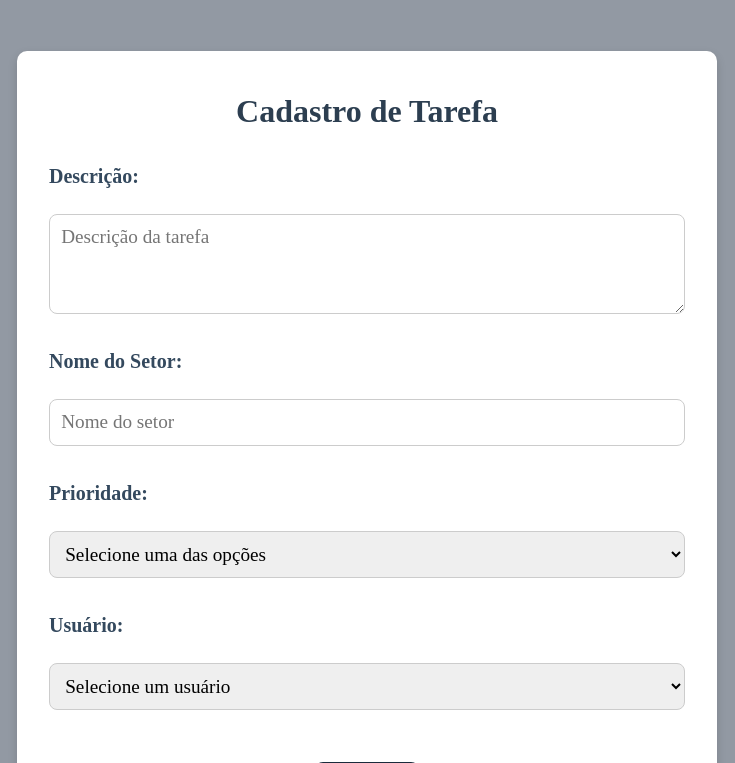
Test case: CadTarefa › deve exibir erro quando o campo 'Nome do Setor' estiver vazio
In the text box labelled "Descrição:": (367, 264) [49,214,685,314], type "Descrição válida com mais de 10 caracteres"
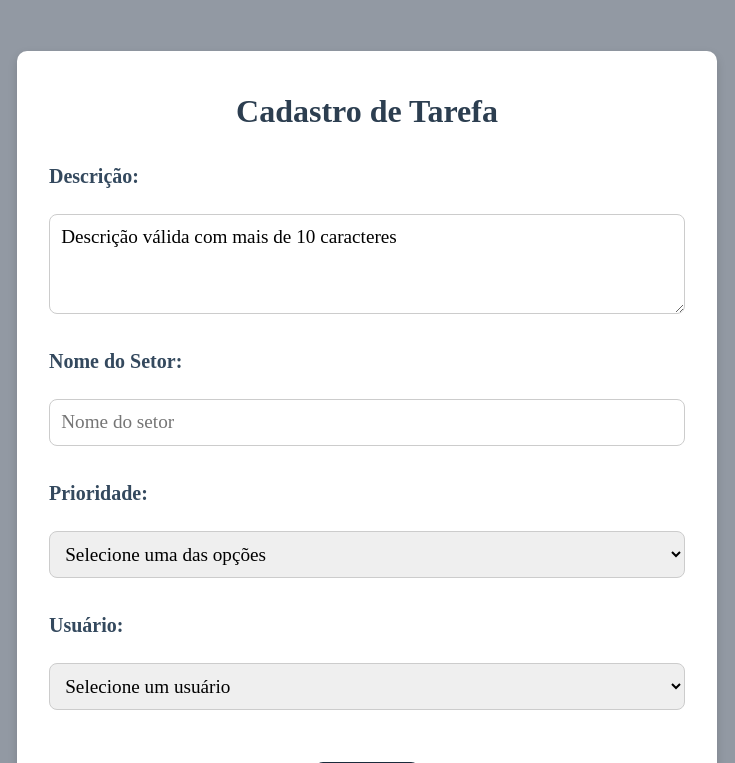
Select "baixa" in the dropdown labelled "Prioridade:": (367, 554) [49,530,685,578]
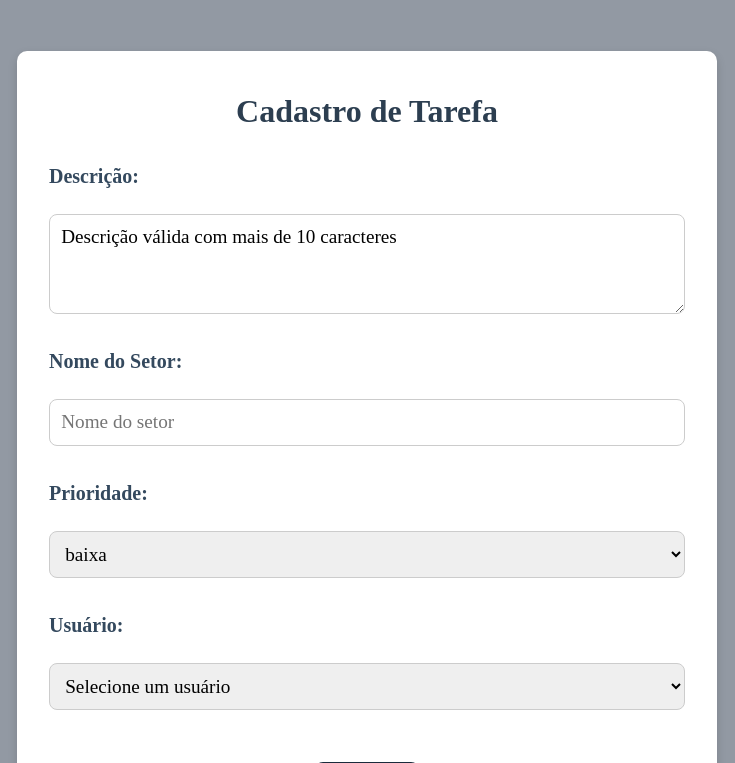
Select "Usuário Teste" in the dropdown labelled "Usuário:": (367, 687) [49,663,685,710]
(page scrolled)
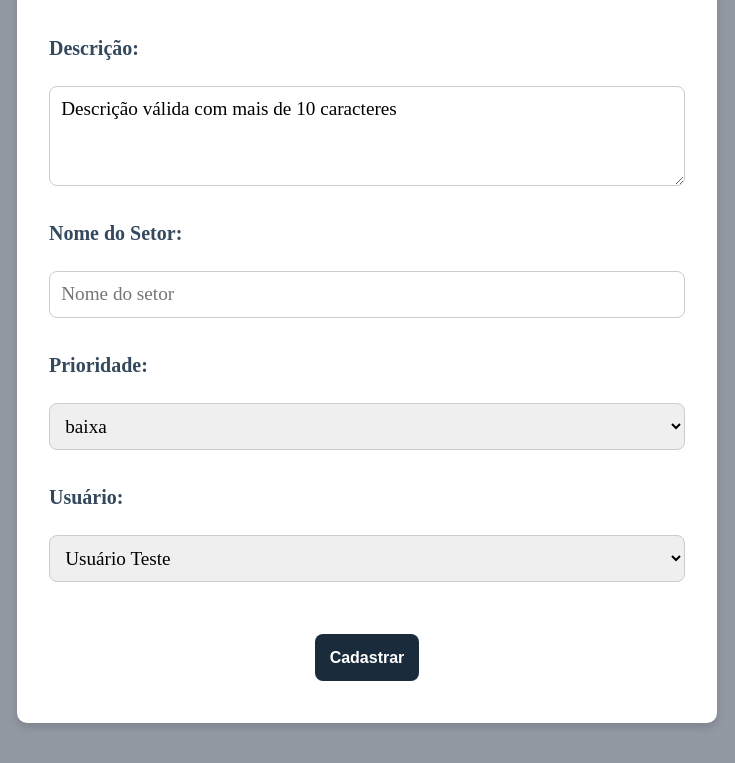
Click the button "Cadastrar": (367, 658) [315,634,419,681]
(page scrolled)
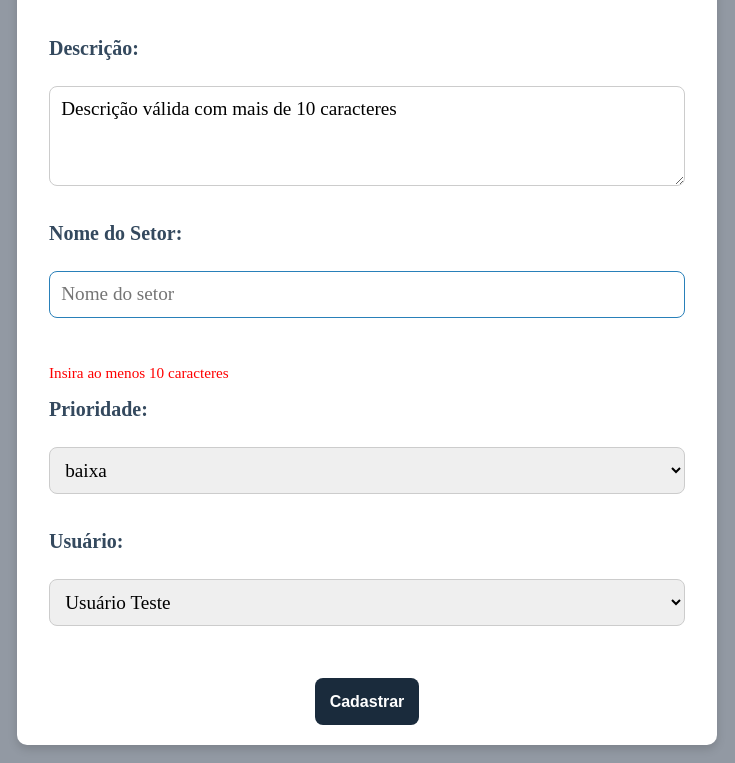
expect the text "Insira ao menos 10 caracteres" is shown: met, box [49,364,229,380]
